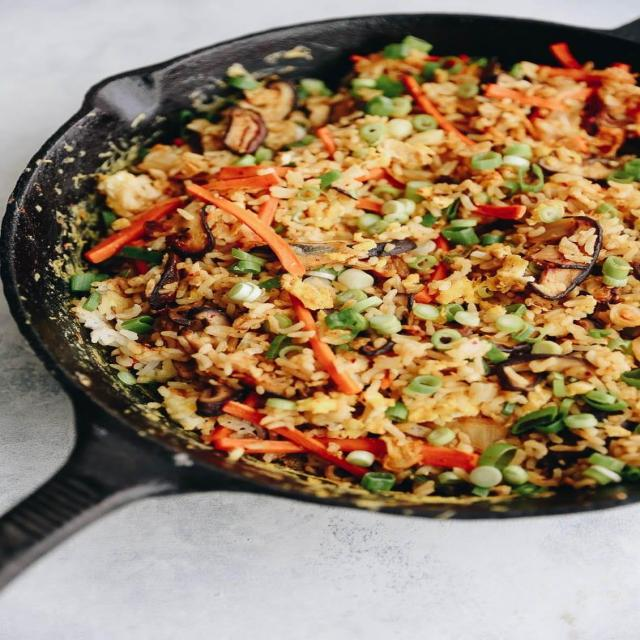Nasi Goreng: (66, 36, 638, 500)
